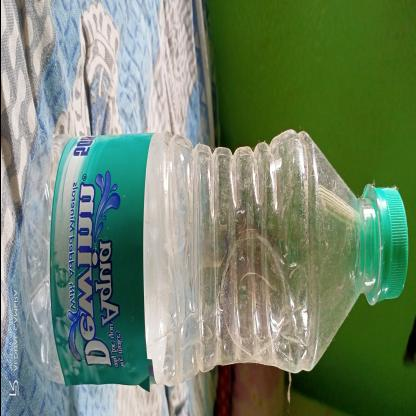bottle: (20, 124, 410, 394)
